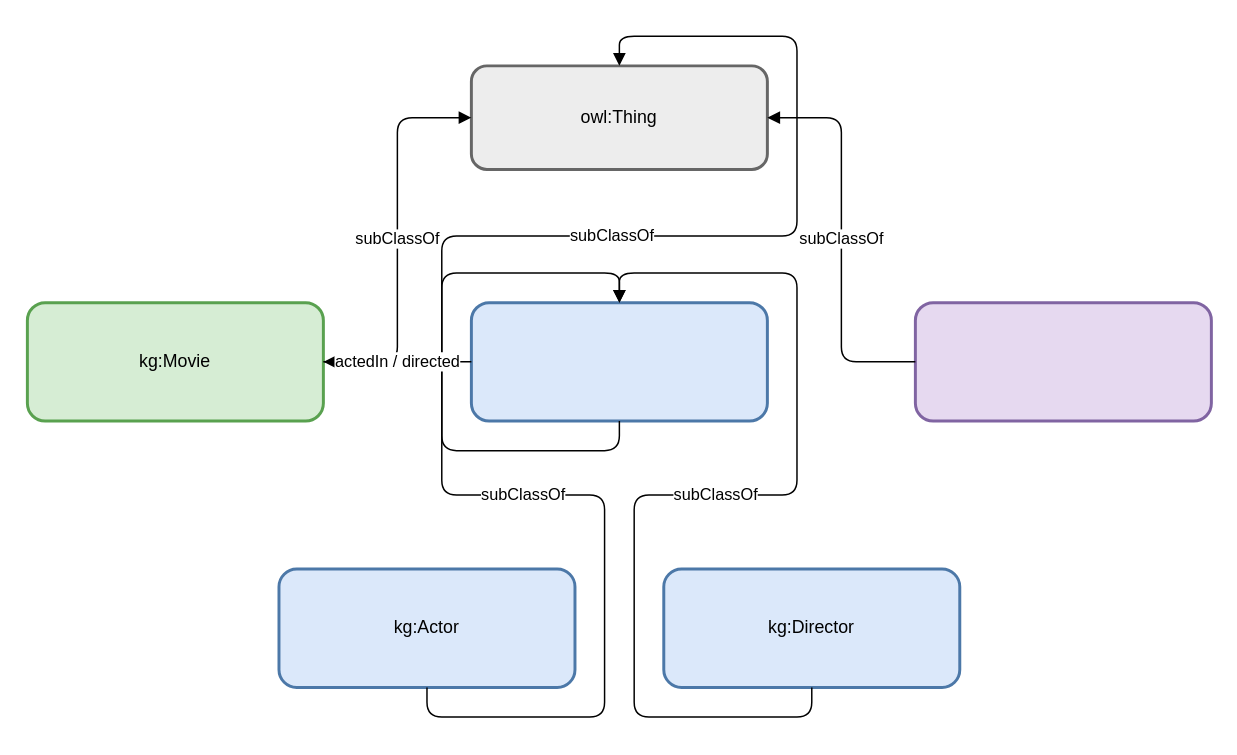
The diagram is 1237 pixels wide and 755 high, and some of its shapes have lost their labels. The shapes that lost their labels are listed below. From the top down, each one's box as (x1, y1, x2, y2) in pixels, then its label:
(469, 300, 768, 422): kg:Person
(913, 300, 1212, 422): kg:Genre
